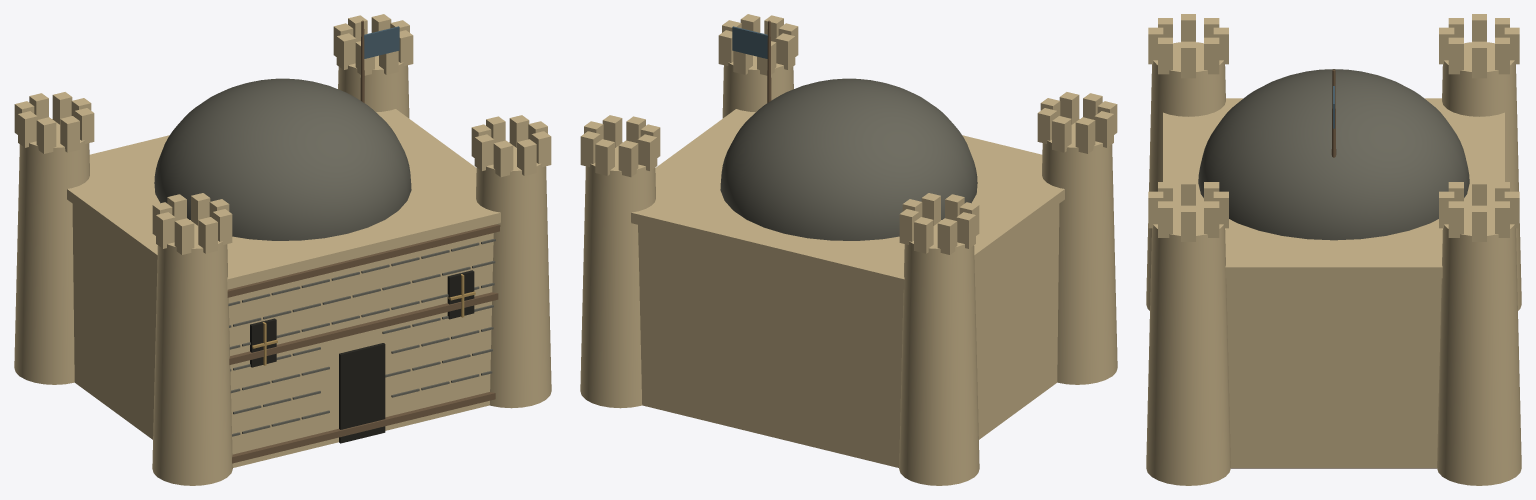
The model's file is b-specialist-ayyubid.glb.
3 views of the same model, side by side, from view 1: azimuth 30°, elevation 25°; view 2: azimuth 150°, elevation 25°; view 3: azimuth 270°, elevation 25° (orthographic). The views are drawn at different scales.
Parts seen in each view (by area): view 1: Structure; view 2: Structure; view 3: Structure.
Boxes of the visible parts, <box> form: Structure: <box>14,14,551,485</box>; Structure: <box>580,14,1117,485</box>; Structure: <box>1146,14,1521,485</box>.
Bounding box in the file's own units: 7.8 × 6.52 × 6.2.
